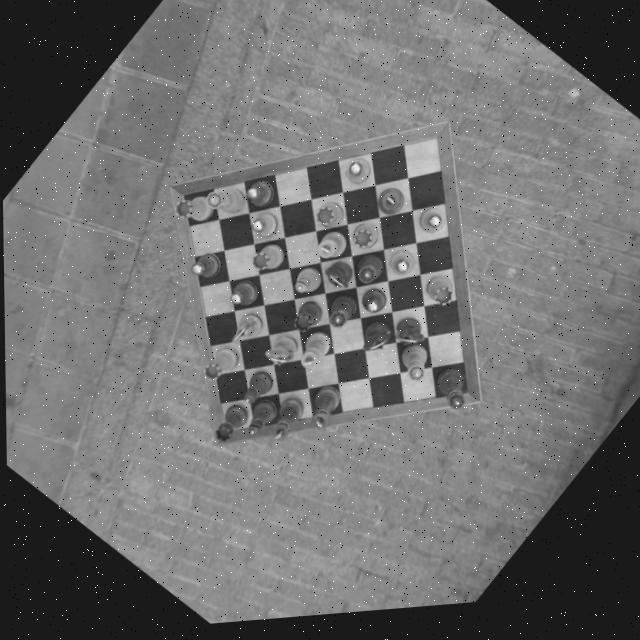chessboard: (180, 145, 467, 434)
